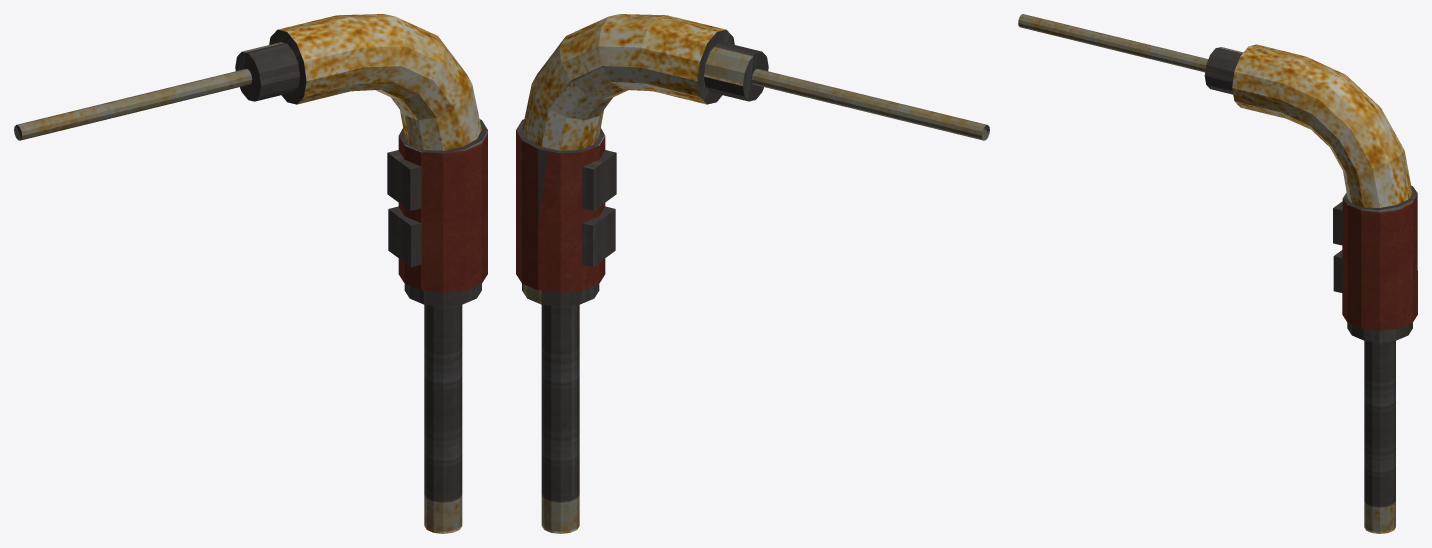
File: welding_tool.fbx
3 views of the same model, side by side, from view 1: azimuth 30°, elevation 25°; view 2: azimuth 150°, elevation 25°; view 3: azimuth 330°, elevation 25° (orthographic). The views are drawn at different scales.
Visible parts, largest first — view 1: welder; view 2: welder; view 3: welder.
Boxes of the visible parts, x1=… form: welder: x1=14, y1=14, x2=487, y2=533; welder: x1=516, y1=14, x2=989, y2=533; welder: x1=1018, y1=14, x2=1417, y2=533.
Bounding box in the file's own units: 594 × 651 × 99.27.
1 material, 1 textured.
